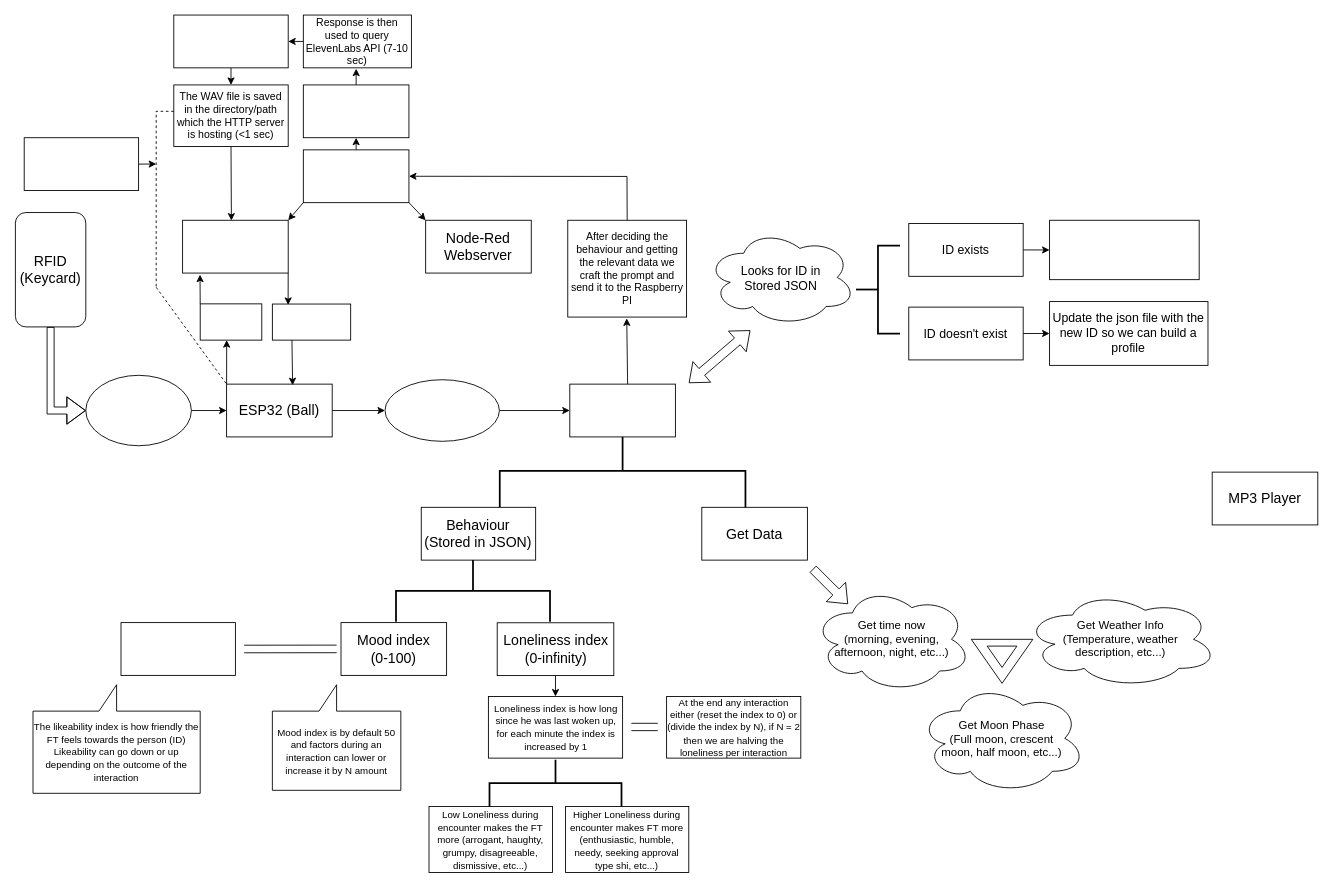
This 1333x889 diagram has some shape labels left out. Here are the shapes that lost their labels. From the top down, the box of each, then its label:
(173, 14, 288, 68): This returns an mp3 file which we convert to WAV format (<1 sec)
(302, 84, 409, 138): Queries OpenAI API with prompt (2-3 sec)
(23, 137, 139, 191): MQTT message sent to let Ball ESP know that WAV file is ready to be downloaded
(302, 149, 409, 203): Raspberry PI
(182, 219, 288, 273): Simple Python HTTP Server
(1049, 219, 1199, 280): Parse the information relating to the ID for later use
(199, 303, 262, 340): GET request for WAV file
(271, 303, 351, 340): File sent over TCP protocol (3-4 sec)
(85, 374, 191, 446): Sends Unique Identifier (ID)
(384, 379, 499, 441): Senda ON+ID (MQTT)
(569, 383, 675, 437): ESP32 (Head)
(120, 622, 235, 675): Likeability index
